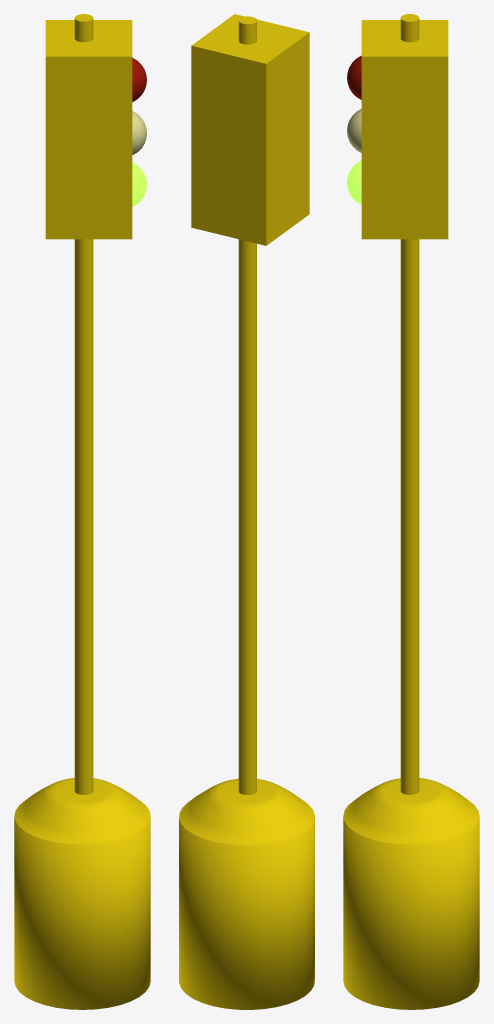
The model's file is semaforo.fbx.
3 renders of one model, left to right at view 1: azimuth 90°, elevation 25°; view 2: azimuth 150°, elevation 25°; view 3: azimuth 270°, elevation 25°, orthographic.
Visible parts, largest first — view 1: Cylinder, Cube.002, Cylinder.001, Sphere.002, Sphere, Sphere.001; view 2: Cylinder, Cube.002, Cylinder.001; view 3: Cylinder, Cube.002, Cylinder.001, Sphere, Sphere.001, Sphere.002.
Part boxes in pixels (box(x1,y1,x2,y2)): Cylinder: box(14, 778, 150, 1009); Cube.002: box(45, 20, 132, 239); Cylinder.001: box(74, 14, 93, 794); Sphere.002: box(132, 162, 146, 206); Sphere: box(132, 58, 146, 101); Sphere.001: box(132, 111, 146, 155); Cylinder: box(179, 778, 314, 1009); Cube.002: box(191, 14, 309, 245); Cylinder.001: box(238, 16, 256, 794); Cylinder: box(343, 778, 479, 1009); Cube.002: box(361, 20, 448, 239); Cylinder.001: box(400, 14, 419, 794); Sphere: box(347, 55, 361, 99); Sphere.001: box(347, 109, 361, 152); Sphere.002: box(347, 160, 361, 204).
Bounding box in the file's own units: 561 × 4370 × 561.
